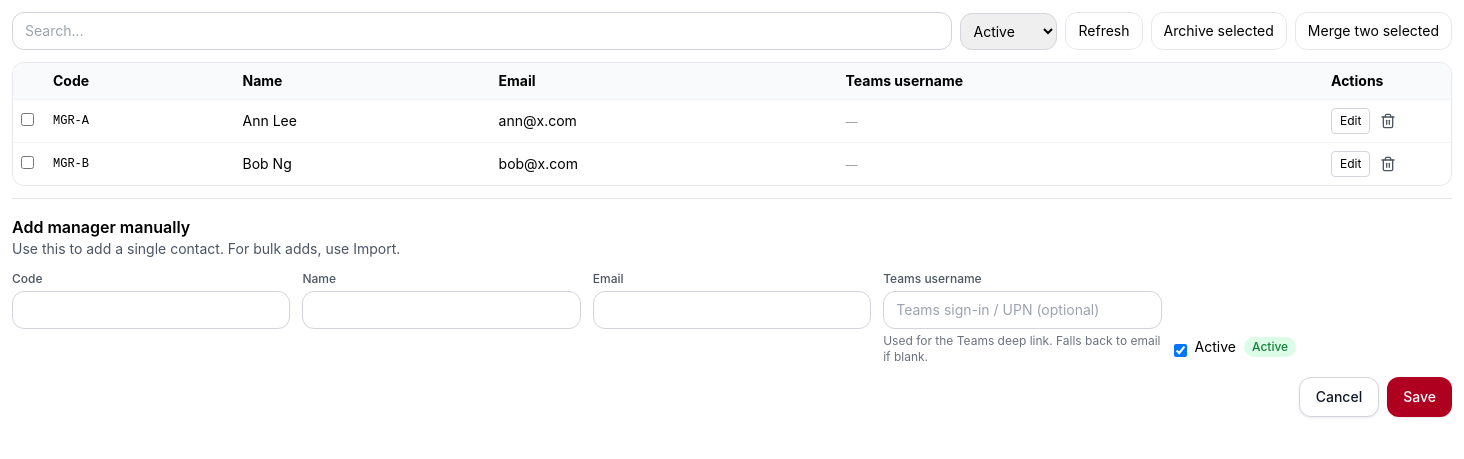
it: DirectoryTable inline edit › edits a row and saves only the changed fields
This screenshot has width=1464, height=459.
Expected: the text "MGR-A" is shown, 45,100 -> 234,142
Click the button with aria-label "edit manager ann lee": (1351,121) 1331,108 -> 1370,134
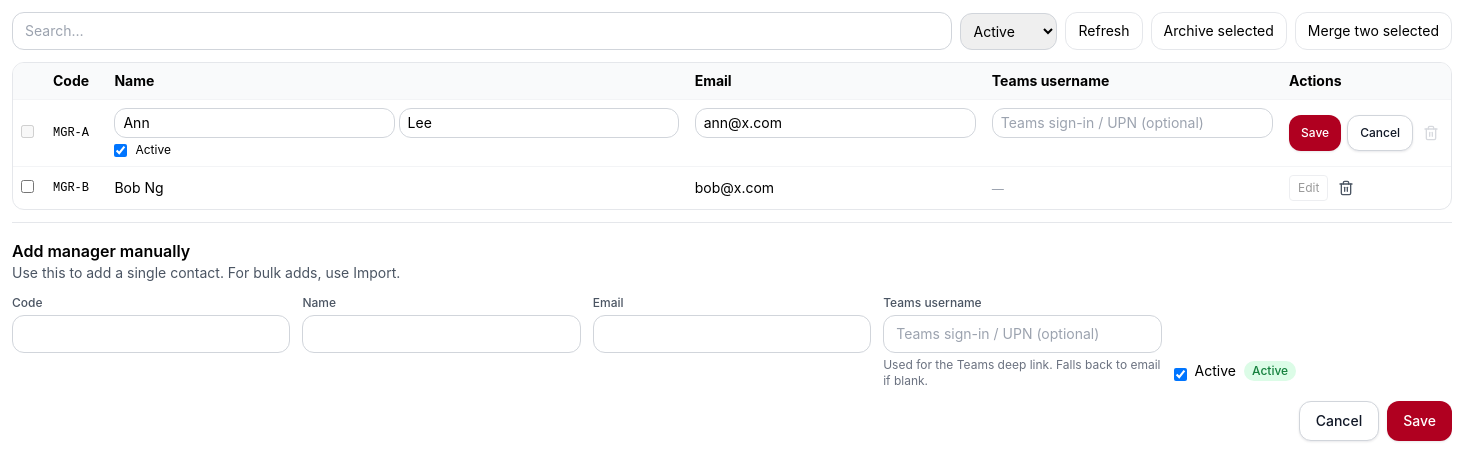
Replace the text in the field named "First name" with "Anne": (255,123) 114,108 -> 395,138
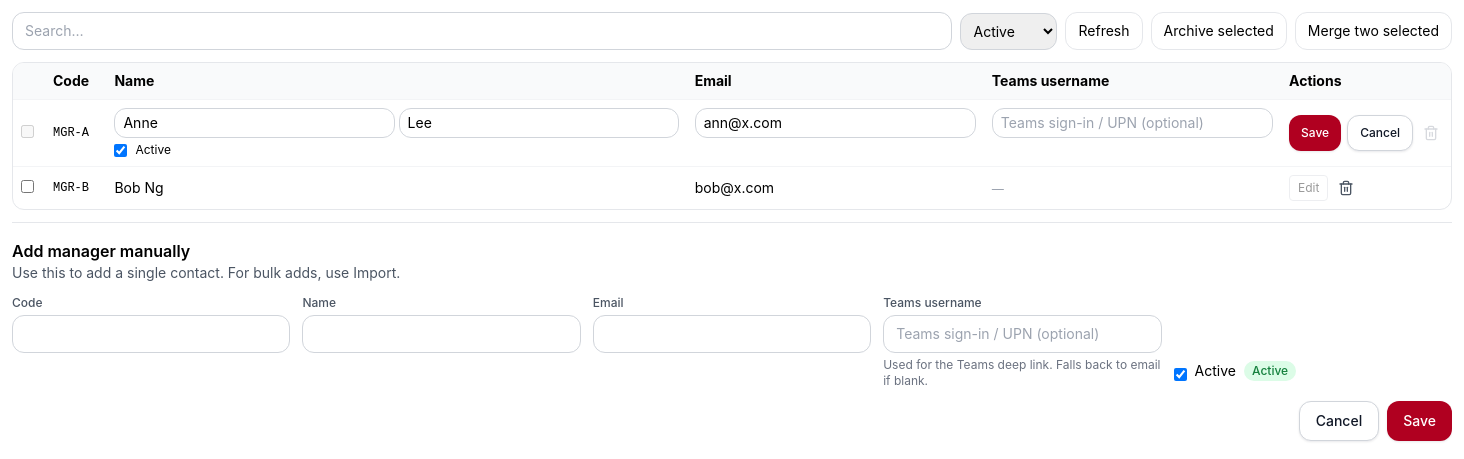
Replace the text in the field named "Email" with "Anne@x.com": (835,123) 695,108 -> 976,138
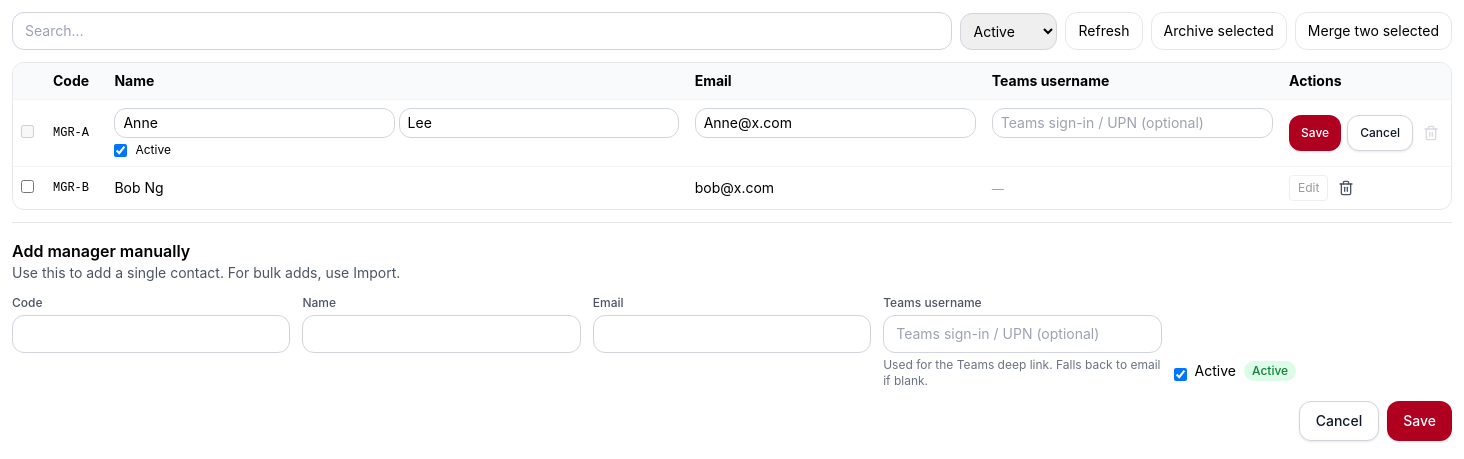
Click the button "Save" in the row of "MGR-A": (1315,133) 1289,115 -> 1341,151
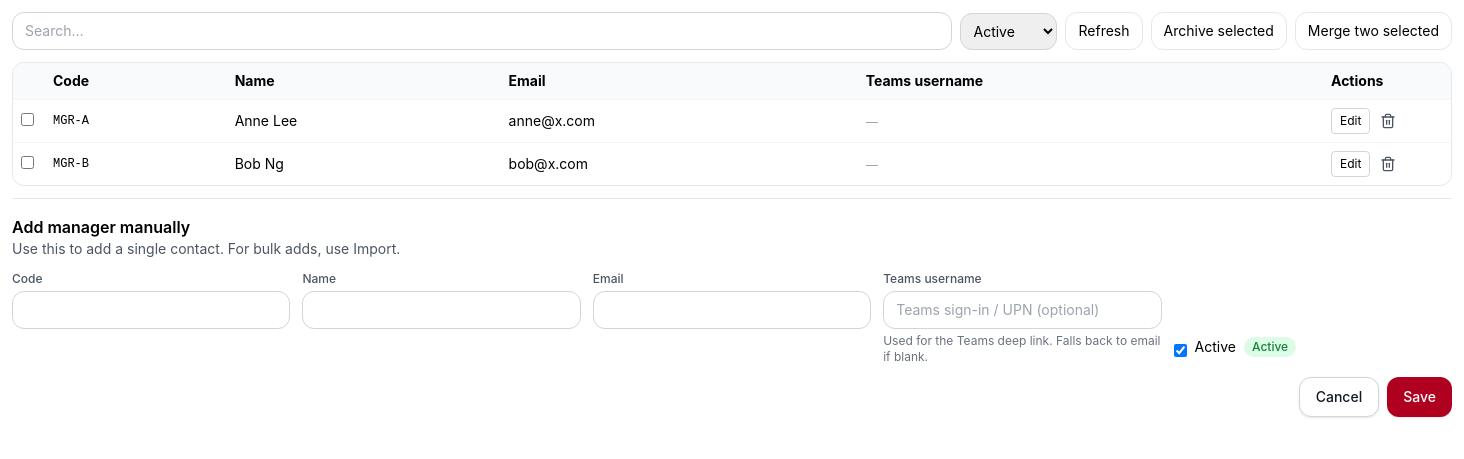
Now the text "Anne Lee" is shown, box 227,100 -> 501,142
Now the button with aria-label "edit manager" is shown, box 1331,108 -> 1370,134
